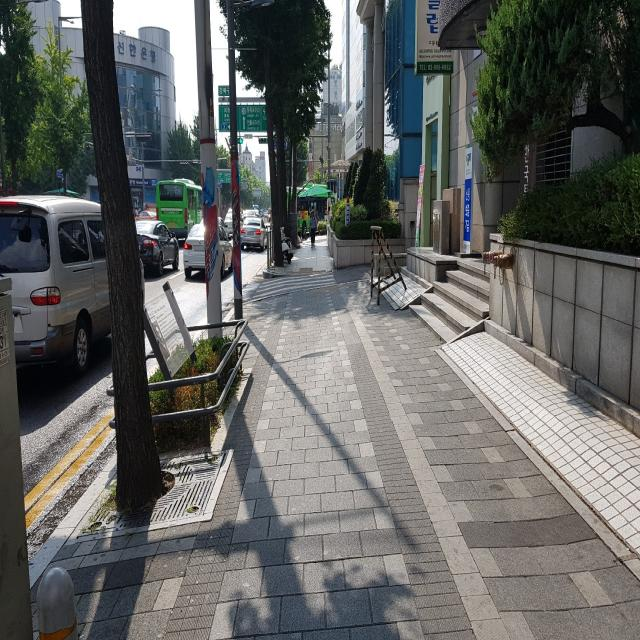횡단보도: (252, 270, 336, 298)
